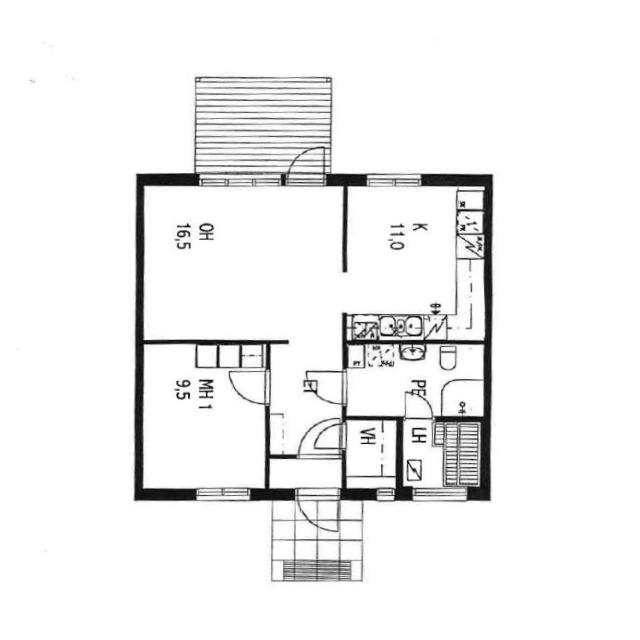door: (291, 487, 341, 536), (224, 366, 275, 408), (304, 367, 354, 409), (283, 142, 330, 186), (299, 420, 346, 456), (396, 389, 440, 423)
window: (194, 171, 288, 192), (185, 482, 256, 506), (358, 169, 430, 190), (405, 486, 472, 504), (370, 486, 398, 505)
zone: (134, 180, 346, 341), (342, 184, 488, 342), (137, 341, 270, 492), (343, 341, 489, 418), (399, 416, 488, 494), (344, 418, 399, 491)
